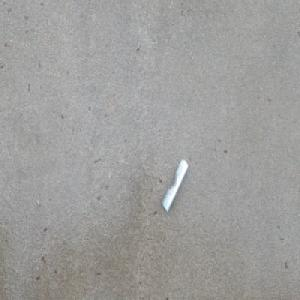ClampPart: (161, 158, 188, 212)
